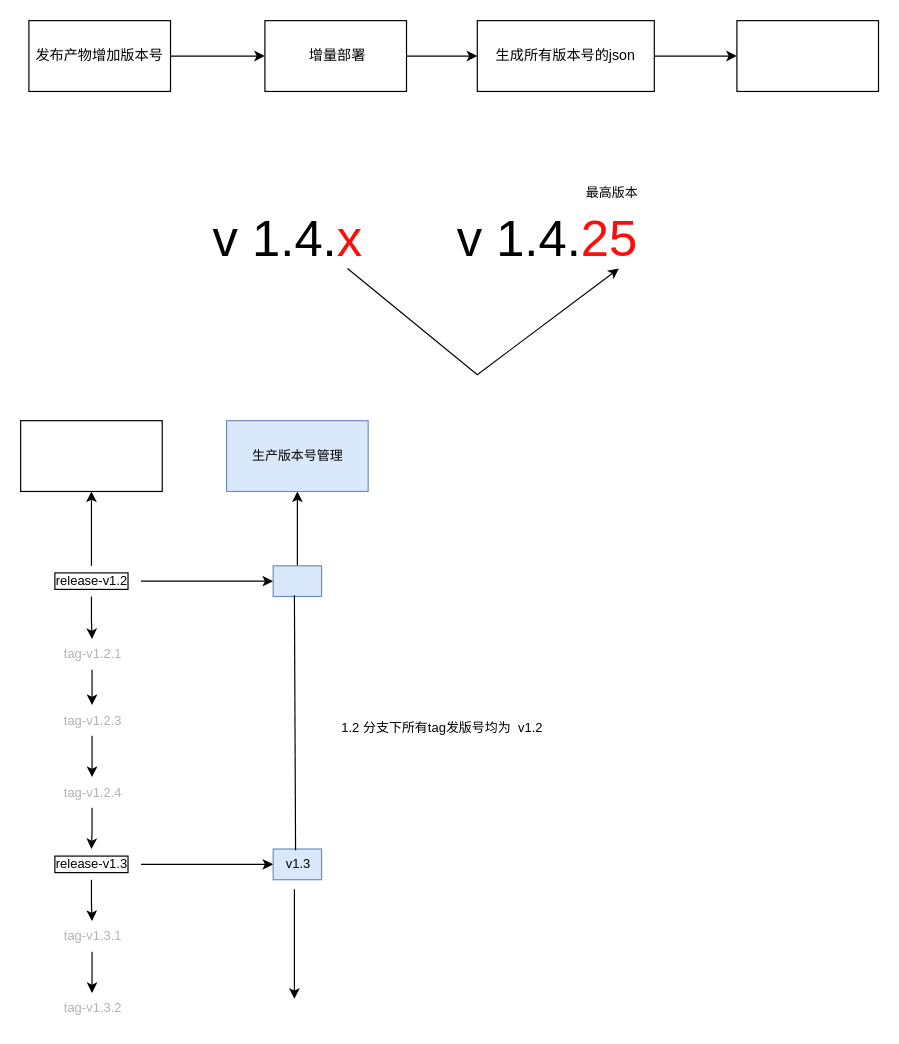
The diagram is 899 pixels wide and 1044 high, and some of its shapes have lost their labels. Each missing label, with the centre of its shape:
"patch版本始终返回minor版本最新内容" goes at (x=807, y=55).
"v1.2" goes at (x=297, y=580).
"发版分支管理" goes at (x=90, y=455).
